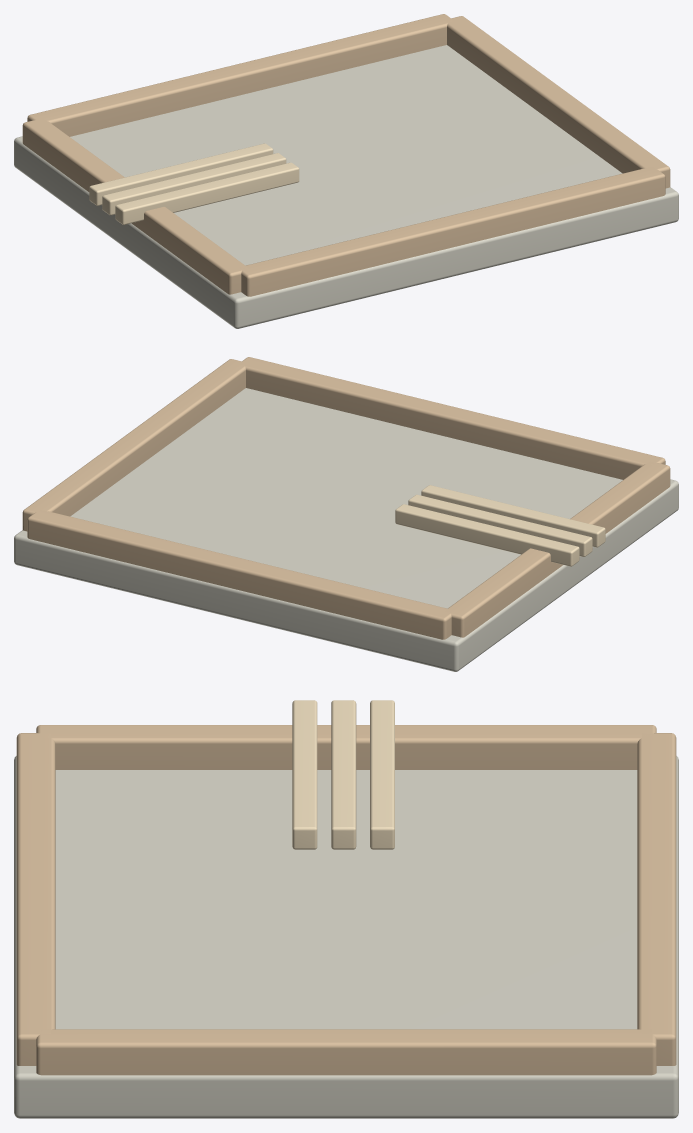
The model's file is family-home-foundation.glb.
The picture shows the model from 3 angles, top to bottom: view 1: azimuth 30°, elevation 25°; view 2: azimuth 150°, elevation 25°; view 3: azimuth 270°, elevation 25°; orthographic projection. The views are drawn at different scales.
Parts seen in each view (by area): view 1: Rounded stone footing.004, Sill beam.016, Sill beam.017, Sill beam.019, Sill beam.018, Staged lumber.003, Staged lumber.005, Staged lumber.004; view 2: Rounded stone footing.004, Sill beam.017, Sill beam.016, Sill beam.019, Sill beam.018, Staged lumber.005, Staged lumber.004, Staged lumber.003; view 3: Rounded stone footing.004, Sill beam.019, Sill beam.018, Sill beam.016, Sill beam.017, Staged lumber.003, Staged lumber.004, Staged lumber.005.
Part boxes in pixels (x1,y1,x2,y2): Rounded stone footing.004: [14, 45, 678, 328]; Sill beam.016: [239, 166, 665, 296]; Sill beam.017: [27, 14, 453, 136]; Sill beam.019: [445, 16, 670, 188]; Sill beam.018: [22, 118, 247, 294]; Staged lumber.003: [115, 162, 299, 224]; Staged lumber.005: [89, 143, 273, 205]; Staged lumber.004: [102, 153, 286, 215]; Rounded stone footing.004: [14, 388, 678, 671]; Sill beam.017: [27, 509, 453, 639]; Sill beam.016: [239, 357, 665, 479]; Sill beam.019: [22, 359, 247, 531]; Sill beam.018: [445, 461, 670, 637]; Staged lumber.005: [395, 504, 579, 566]; Staged lumber.004: [408, 494, 592, 556]; Staged lumber.003: [421, 485, 605, 547]; Rounded stone footing.004: [14, 756, 678, 1118]; Sill beam.019: [36, 1029, 656, 1075]; Sill beam.018: [36, 725, 656, 769]; Sill beam.016: [16, 733, 55, 1065]; Sill beam.017: [637, 733, 676, 1065]; Staged lumber.003: [292, 700, 317, 849]; Staged lumber.004: [331, 700, 356, 849]; Staged lumber.005: [370, 700, 394, 849].
Size of the model in its own units: 2.88 by 0.335 by 2.4.
